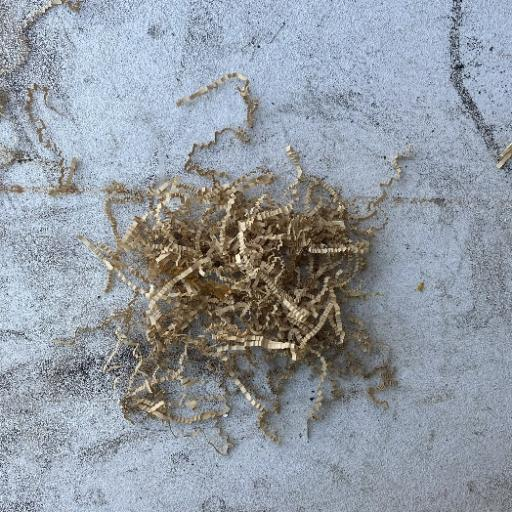Cardboard: (68, 72, 412, 456)
